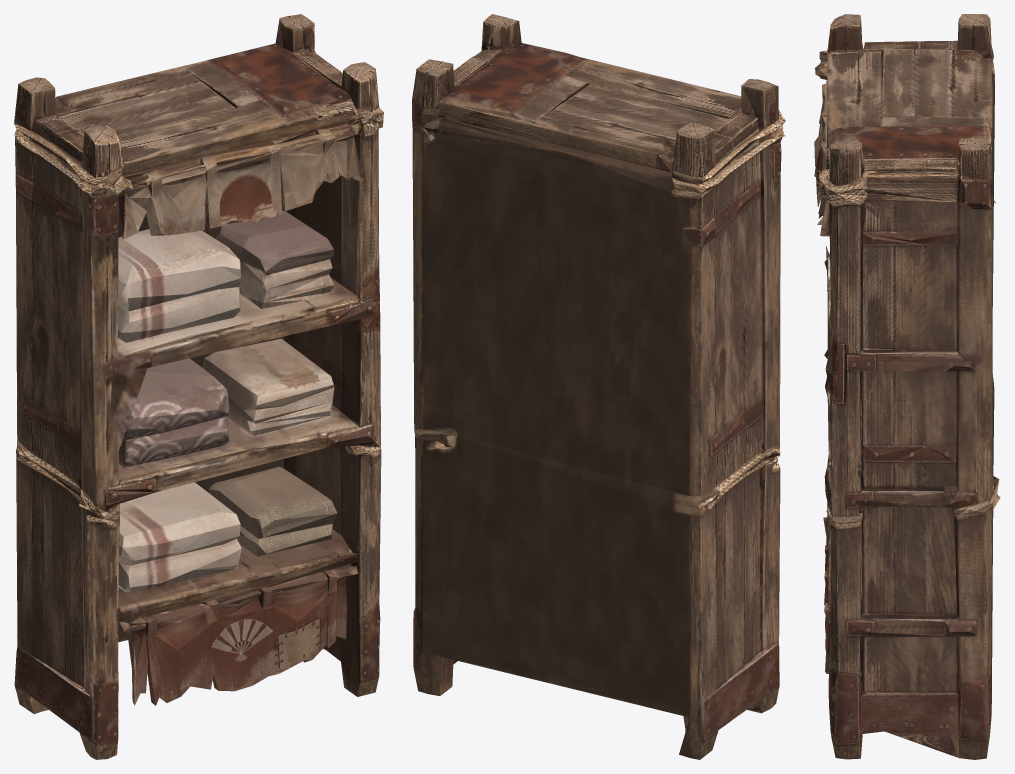
The model's file is towel-rack.glb.
The picture shows the model from 3 angles, left to right: view 1: azimuth 30°, elevation 25°; view 2: azimuth 150°, elevation 25°; view 3: azimuth 270°, elevation 25°; orthographic projection. The views are drawn at different scales.
Parts seen in each view (by area): view 1: output_unwrapped; view 2: output_unwrapped; view 3: output_unwrapped.
Boxes of the visible parts, x1,y1,x2,y2 form: output_unwrapped: [14, 14, 383, 759]; output_unwrapped: [412, 14, 785, 759]; output_unwrapped: [814, 14, 1000, 759].
Bounding box in the file's own units: 0.8131 × 1.6 × 0.4421.
Materials: 1 (1 with a texture image).
